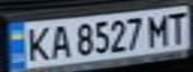2: (109, 16, 130, 53)
5: (90, 18, 115, 55)
7: (124, 15, 148, 51)
8: (72, 20, 93, 56)
A: (45, 21, 72, 61)
K: (21, 24, 54, 63)
M: (145, 11, 175, 47)
T: (163, 8, 193, 45)
